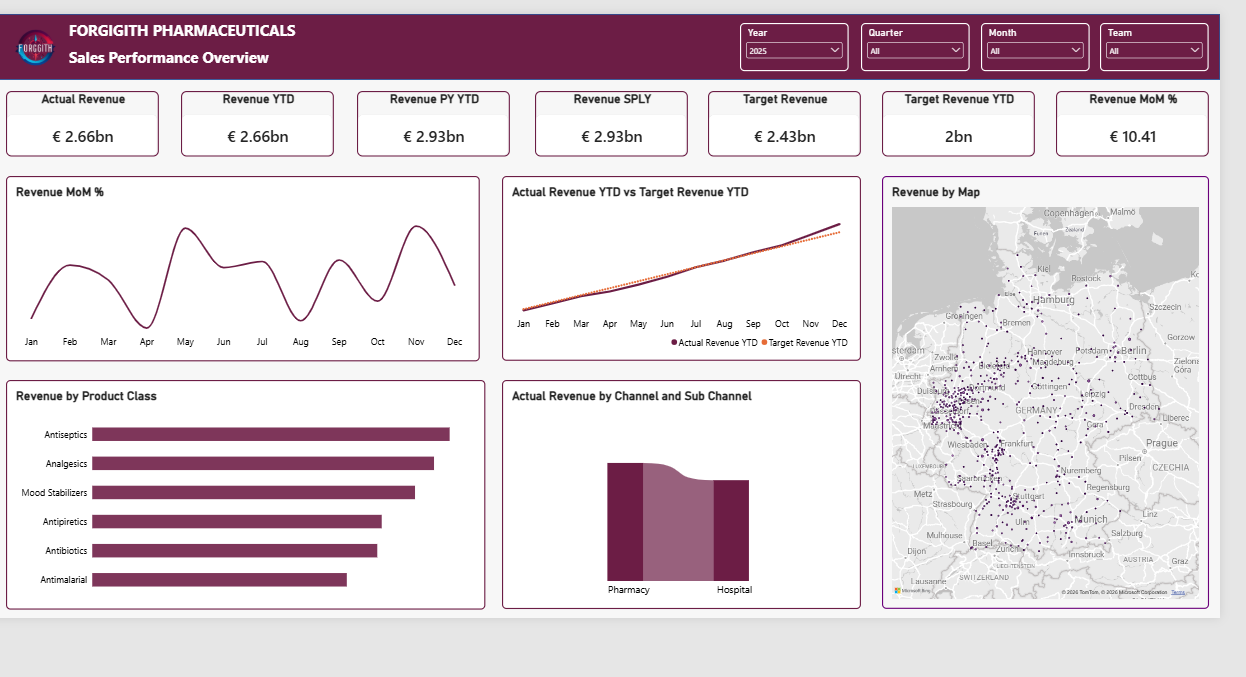

The dashboard page shown, as its layout file describes it:
{"tool":"powerbi","page":{"name":"Sales Performance","canvas":[2200,1080],"ordinal":0},"visuals":[{"type":"shape","box":[0,0,2200,117.5],"z":0},{"type":"textbox","box":[145,10.6,473.5,47.9],"z":1000},{"type":"image","box":[0,0,169.6,117.9],"z":2000},{"type":"cardVisual","title":"Actual Revenue","fields":{"Data":["MeasureTable.Total Revenue"]},"box":[32.6,137.9,272.7,117],"z":3000},{"type":"cardVisual","title":"Target Revenue YTD","fields":{"Data":["MeasureTable.Target Revenue YTD"]},"box":[1596.6,137.9,272.7,117],"z":4000},{"type":"cardVisual","title":"Revenue YTD","fields":{"Data":["MeasureTable.Revenue YTD"]},"box":[345.4,137.9,272.7,117],"z":5000},{"type":"cardVisual","title":"Revenue SPLY","fields":{"Data":["MeasureTable.Revenue SPLY"]},"box":[977,137.9,272.7,117],"z":6000},{"type":"cardVisual","title":"Revenue PY YTD","fields":{"Data":["MeasureTable.Revenue PY YTD"]},"box":[659.7,137.9,272.7,117],"z":7000},{"type":"cardVisual","title":"Target Revenue","fields":{"Data":["MeasureTable.Target Revenue"]},"box":[1285.3,137.9,272.7,117],"z":8000},{"type":"cardVisual","title":"Revenue MoM %","fields":{"Data":["MeasureTable.Revenue MoM %"]},"box":[1906.5,137.9,272.7,117],"z":9000},{"type":"ribbonChart","title":"Actual Revenue by Channel and Sub Channel","fields":{"Category":["DimSubChannel.Channel","DimSubChannel.Sub-channel"],"Y":["MeasureTable.Actual Revenue"]},"box":[917.9,653.6,641.1,408.9],"z":10000},{"type":"clusteredBarChart","title":"Revenue by Product Class","fields":{"Category":["DimProducts.ProductClass"],"Y":["MeasureTable.Total Revenue"]},"box":[32.6,653.8,855.6,409.5],"z":11000},{"type":"slicer","fields":{"Values":["DimDate.Quarter"]},"box":[1558.7,15.9,193.7,85.7],"z":12000},{"type":"slicer","fields":{"Values":["DimDate.Month"]},"box":[1773,15.9,193.7,85.7],"z":13000},{"type":"slicer","fields":{"Values":["DimEmployees.Team"]},"box":[1985.7,15.9,193.7,85.7],"z":14000},{"type":"slicer","fields":{"Values":["DimDate.Year"]},"box":[1342.9,15.9,193.7,85.7],"z":15000},{"type":"lineChart","title":"Revenue MoM % ","fields":{"Category":["DimDate.Month"],"Y":["MeasureTable.Revenue MoM %"]},"box":[32.6,289.1,846.5,330.6],"z":16000},{"type":"lineChart","title":"Actual Revenue YTD vs Target Revenue YTD","fields":{"Category":["DimDate.Month"],"Y":["MeasureTable.Revenue YTD","MeasureTable.Target Revenue YTD"]},"box":[917.9,289.3,641.1,330.4],"z":17000},{"type":"textbox","box":[144.6,58.9,433.9,42.9],"z":18000},{"type":"map","title":"Revenue by Map","fields":{"Size":["MeasureTable.Actual Revenue"],"X":["DimLocation.Longitude"],"Y":["DimLocation.Latitude"]},"box":[1596.4,289.3,583.9,773.2],"z":19000},{"type":"actionButton","box":[0,939.3,16.1,35.7],"z":20000}]}

Visuals, with their boxes in screenshot pixels (x1, y1, x2, y2):
shape: l=0, t=10, r=1216, b=75
textbox: l=68, t=16, r=332, b=42
image: l=0, t=10, r=82, b=76
"Actual Revenue" cardVisual: l=5, t=87, r=158, b=152
"Target Revenue YTD" cardVisual: l=879, t=87, r=1031, b=152
"Revenue YTD" cardVisual: l=180, t=87, r=332, b=152
"Revenue SPLY" cardVisual: l=533, t=87, r=685, b=152
"Revenue PY YTD" cardVisual: l=355, t=87, r=508, b=152
"Target Revenue" cardVisual: l=705, t=87, r=857, b=152
"Revenue MoM %" cardVisual: l=1052, t=87, r=1204, b=152
"Actual Revenue by Channel and Sub Channel" ribbonChart: l=500, t=375, r=858, b=603
"Revenue by Product Class" clusteredBarChart: l=5, t=375, r=483, b=604
slicer - DimDate.Quarter: l=858, t=19, r=966, b=66
slicer - DimDate.Month: l=977, t=19, r=1085, b=66
slicer - DimEmployees.Team: l=1096, t=19, r=1204, b=66
slicer - DimDate.Year: l=737, t=19, r=845, b=66
"Revenue MoM % " lineChart: l=5, t=171, r=478, b=356
"Actual Revenue YTD vs Target Revenue YTD" lineChart: l=500, t=171, r=858, b=356
textbox: l=68, t=43, r=310, b=67
"Revenue by Map" map: l=879, t=171, r=1205, b=603
